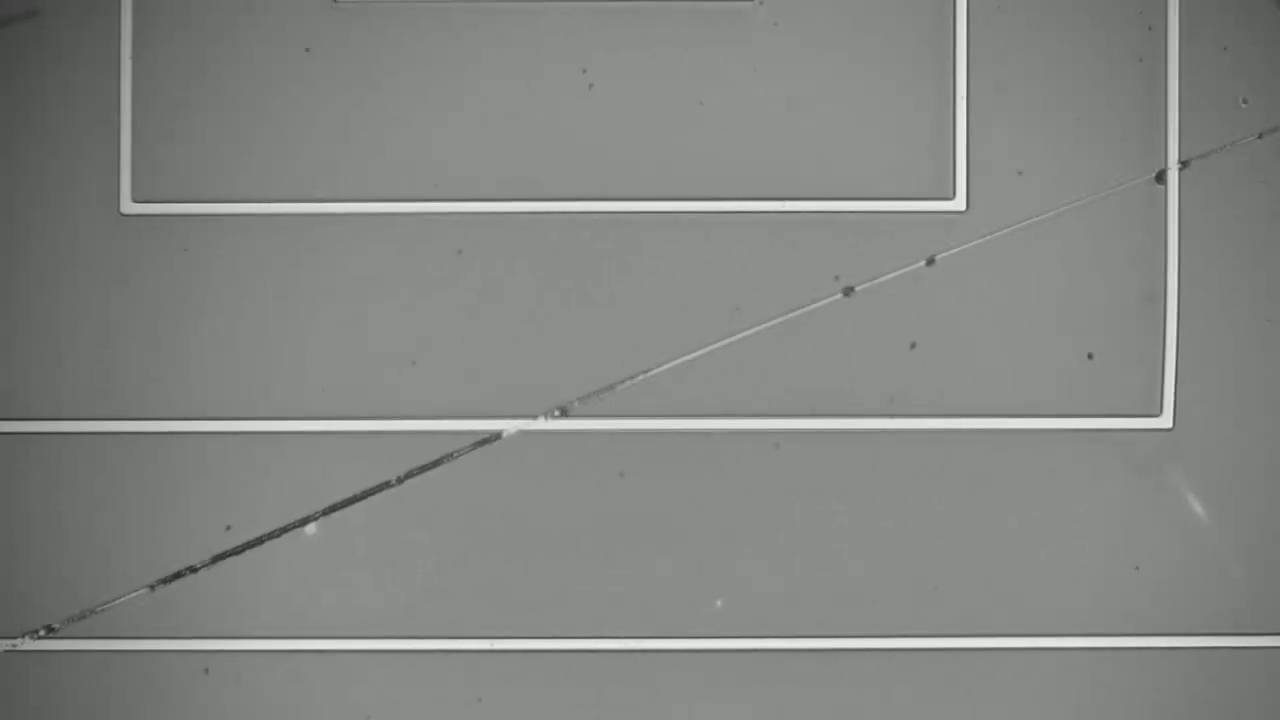scratch: (20, 126, 1272, 645)
